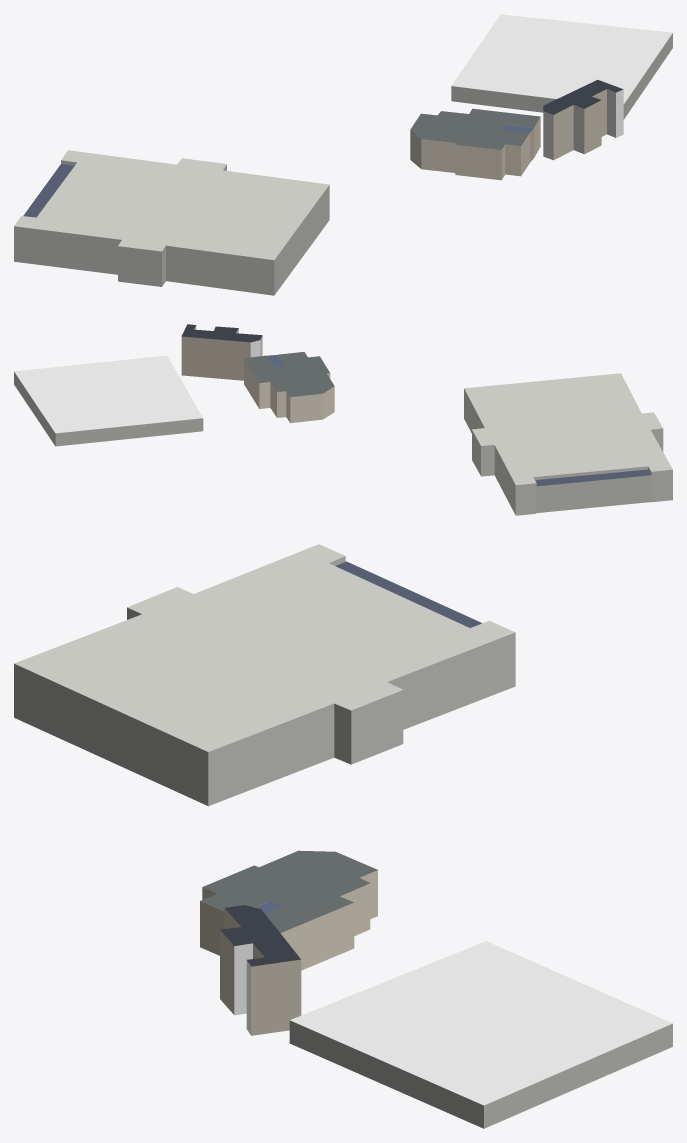
3 renders of one model, top to bottom at view 1: azimuth 30°, elevation 25°; view 2: azimuth 150°, elevation 25°; view 3: azimuth 270°, elevation 25°, orthographic. The views are drawn at different scales.
Parts seen in each view (by area): view 1: tuile; view 2: tuile; view 3: tuile.
Boxes of the visible parts, x1,y1,x2,y2 form: tuile: (14,14,672,295); tuile: (14,324,672,515); tuile: (14,544,672,1128).
Size of the model in its own units: 164 by 9.99 by 85.81.
